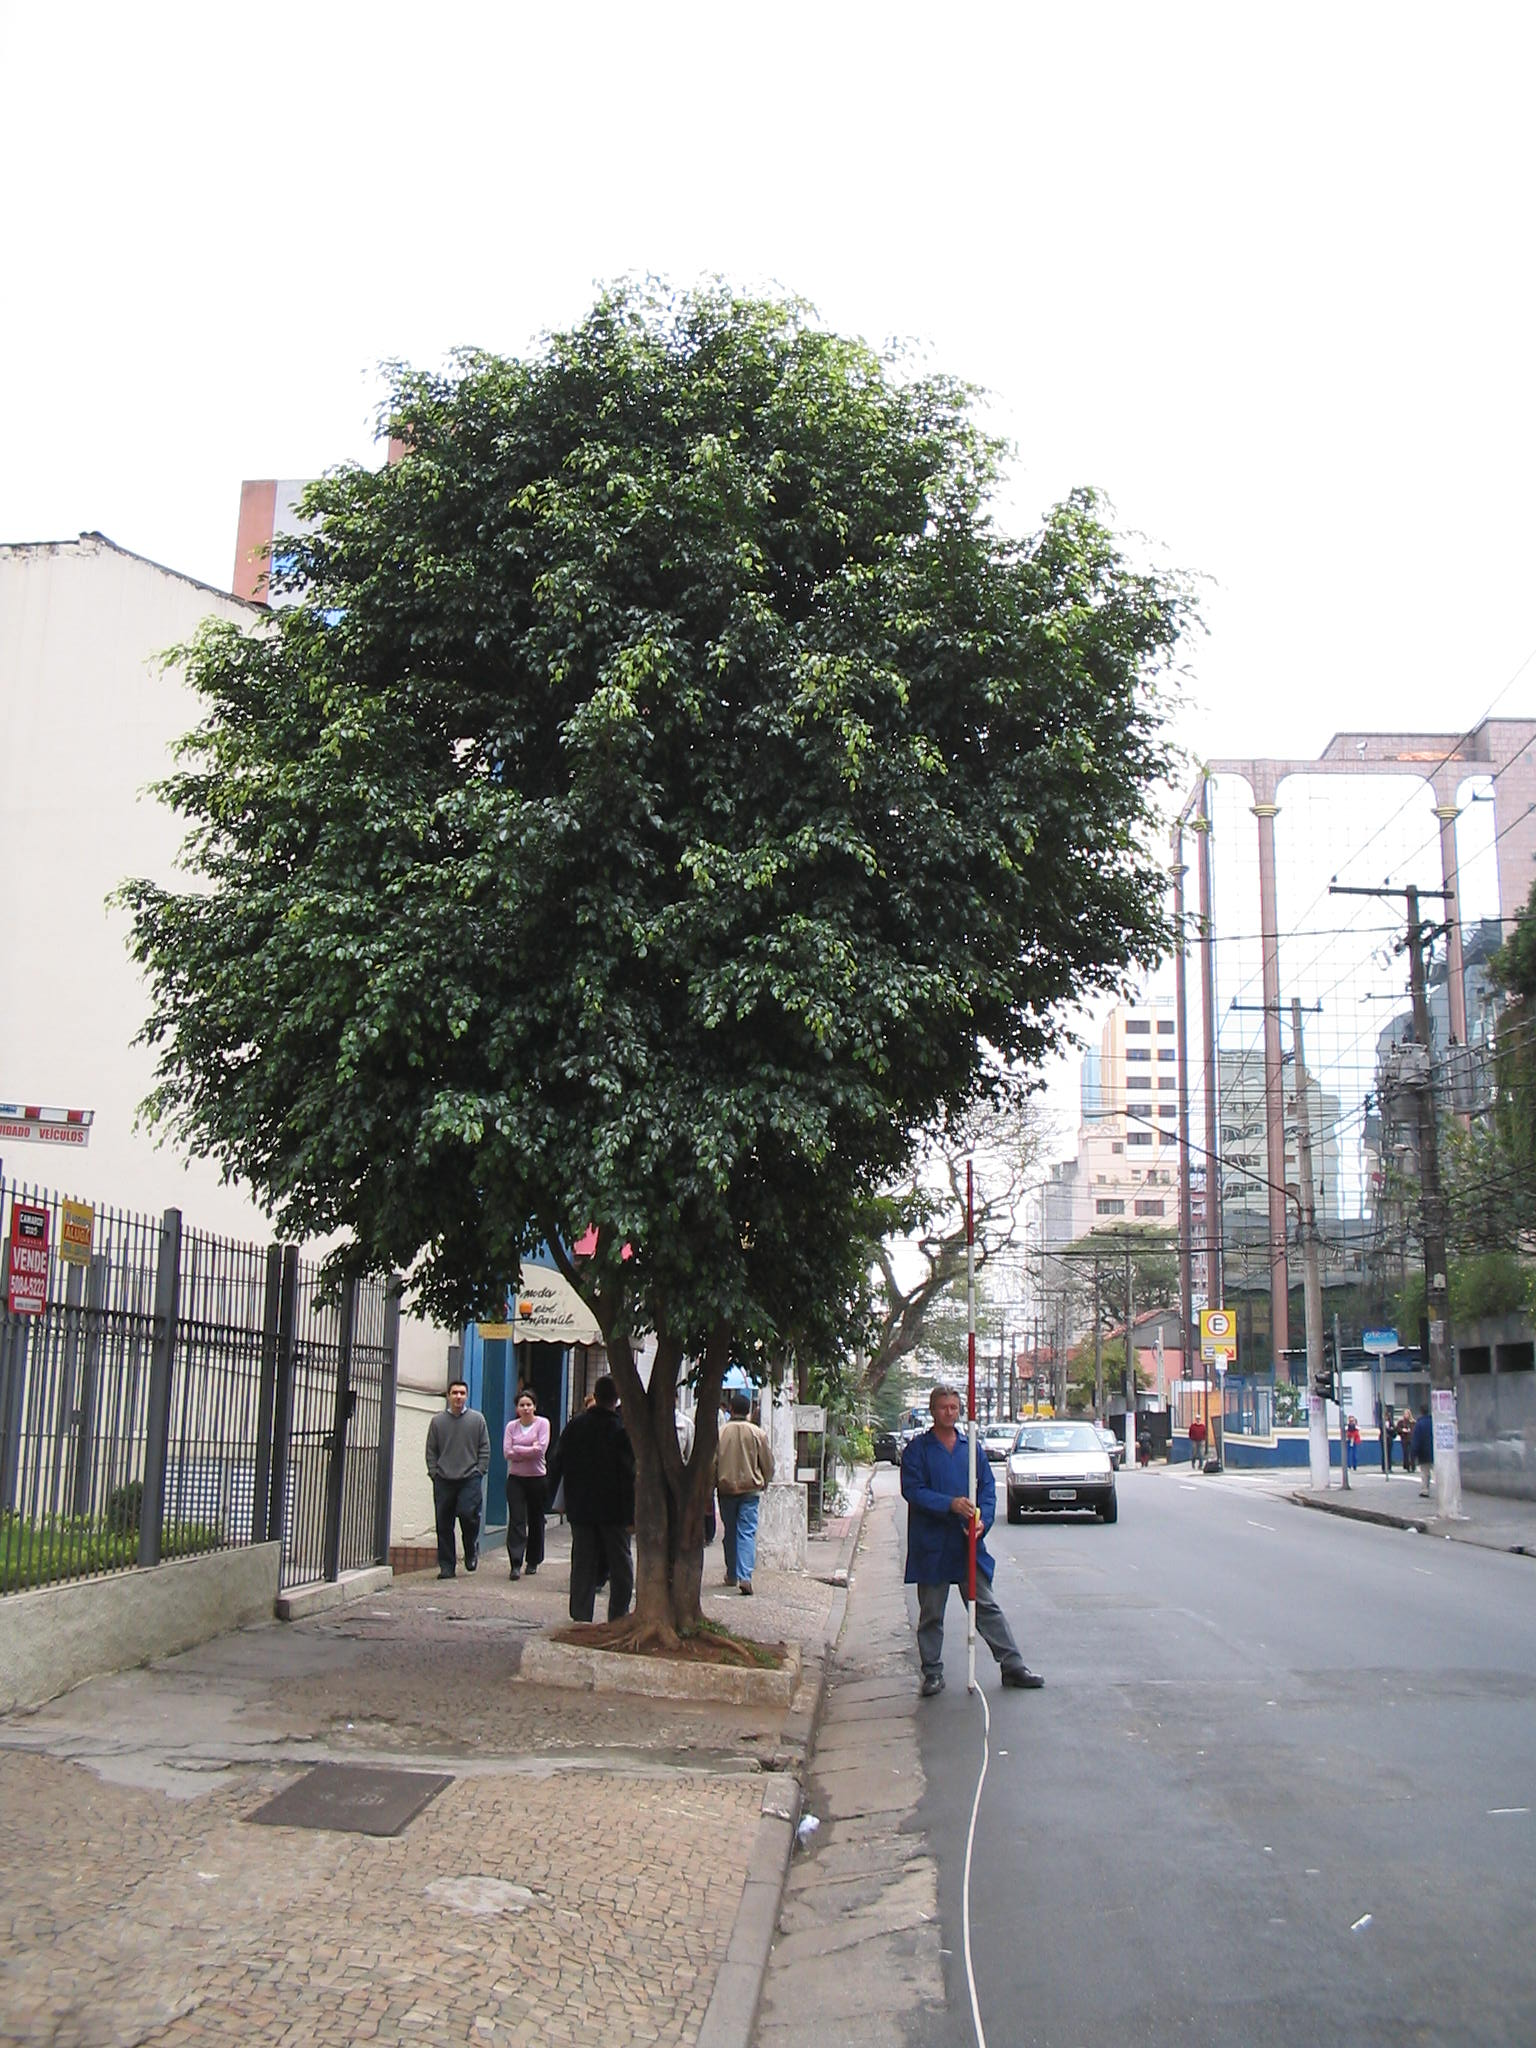crown: (110, 268, 1220, 1379)
stem: (616, 1467, 733, 1650)
stick: (950, 1158, 999, 1690)
tree: (103, 268, 1225, 1653)
